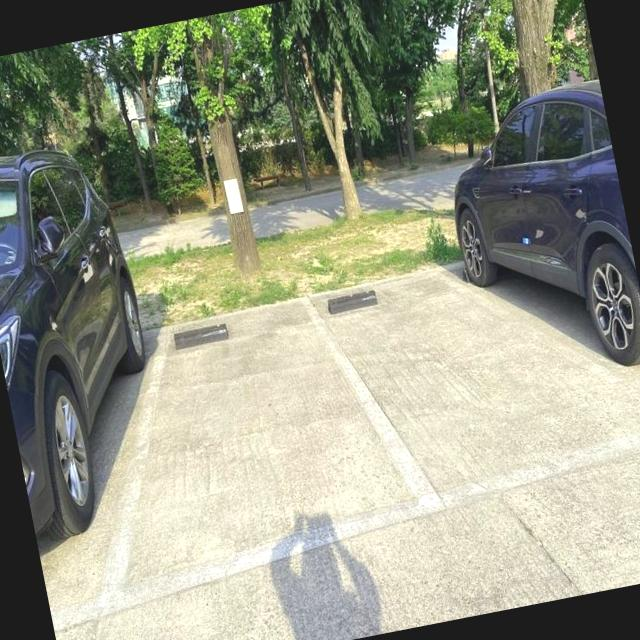free: (102, 294, 396, 590), (332, 245, 608, 520)
